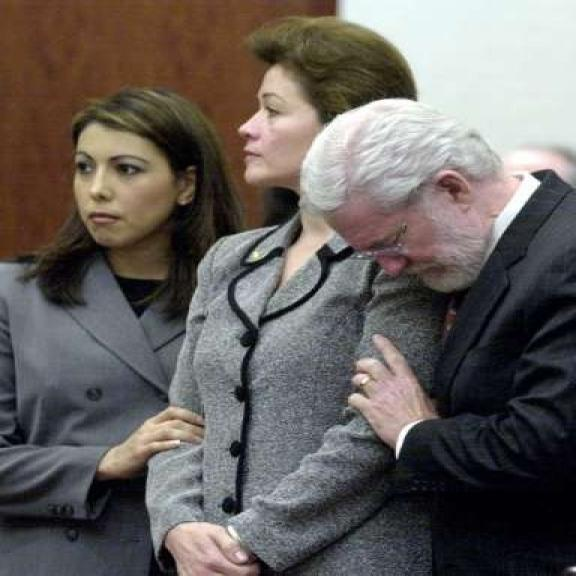face: (328, 166, 496, 294), (72, 113, 202, 251), (234, 62, 312, 190)
